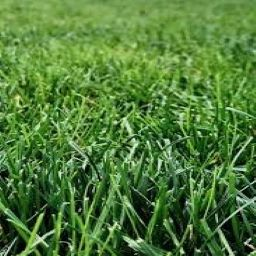grass: (2, 4, 252, 250)
